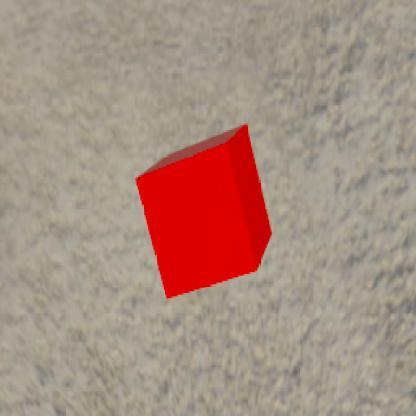cube: (134, 121, 272, 298)
